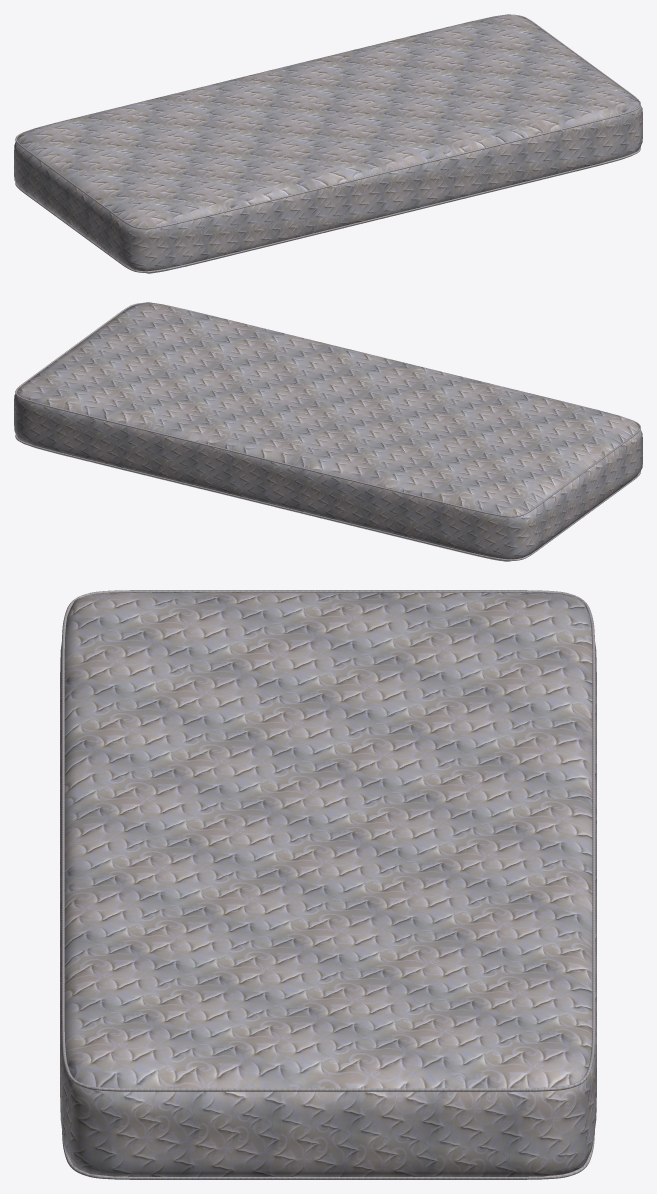
File: matelas 1.fbx
The picture shows the model from 3 angles, top to bottom: view 1: azimuth 30°, elevation 25°; view 2: azimuth 150°, elevation 25°; view 3: azimuth 270°, elevation 25°; orthographic projection. The views are drawn at different scales.
Visible parts, largest first — view 1: mattress.001; view 2: mattress.001; view 3: mattress.001.
Part boxes in pixels (x1=…): mattress.001: x1=14, y1=14, x2=642, y2=273; mattress.001: x1=14, y1=302, x2=642, y2=561; mattress.001: x1=60, y1=590, x2=596, y2=1179.
Size of the model in its own units: 347 by 36.48 by 156.
